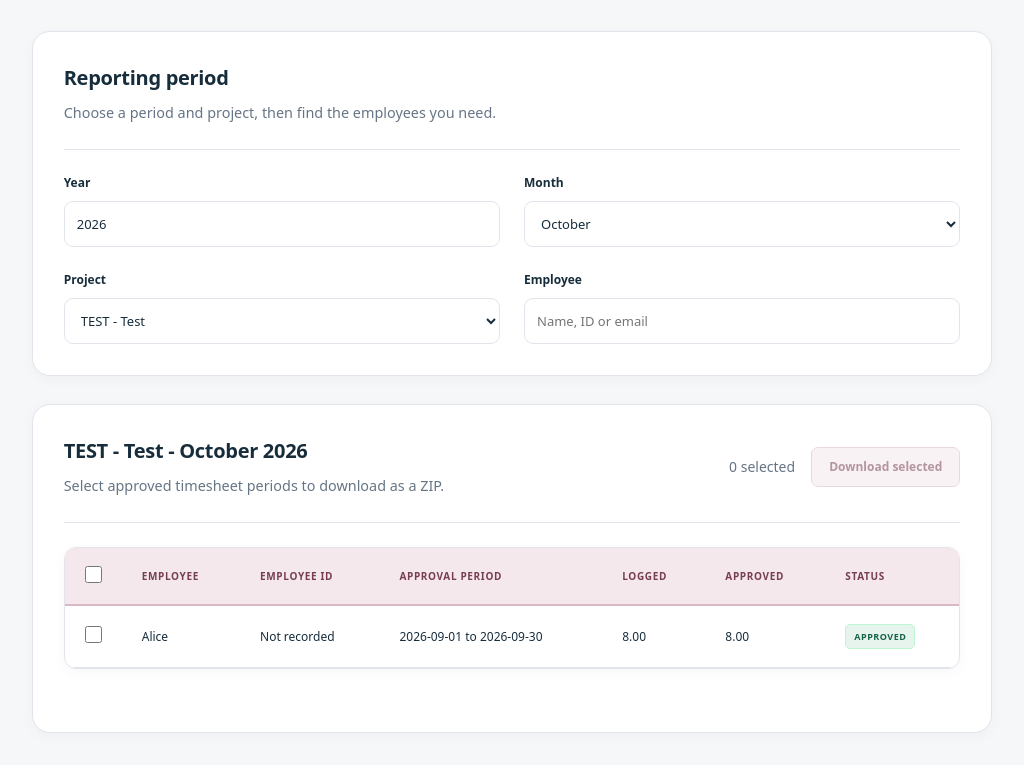
report filters › excludes assignment-only rows and clears members and exports for an empty year
(page scrolled)
Expected: the text "Alice" is shown, 122,605 -> 240,668
Click the checkbox named "Select Alice".
click(93, 635)  # box 85,626 -> 102,643
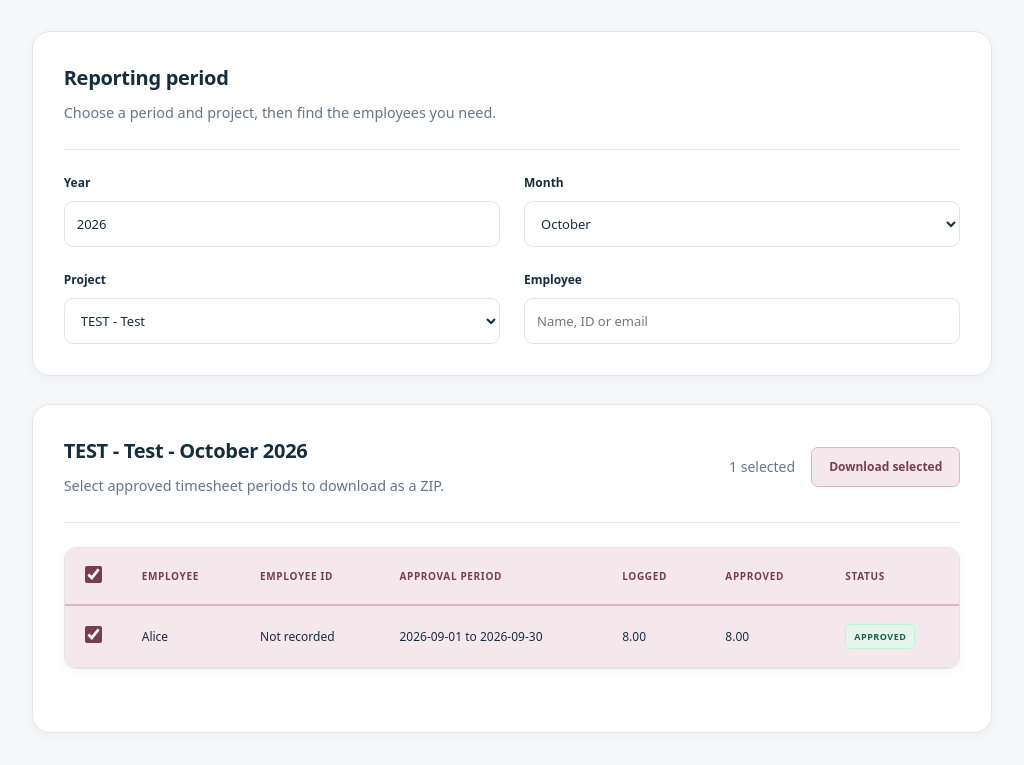
Replace the text in the number field labelled "Year" with "2040" at (282, 224), box 64,201 -> 500,247
(page scrolled)
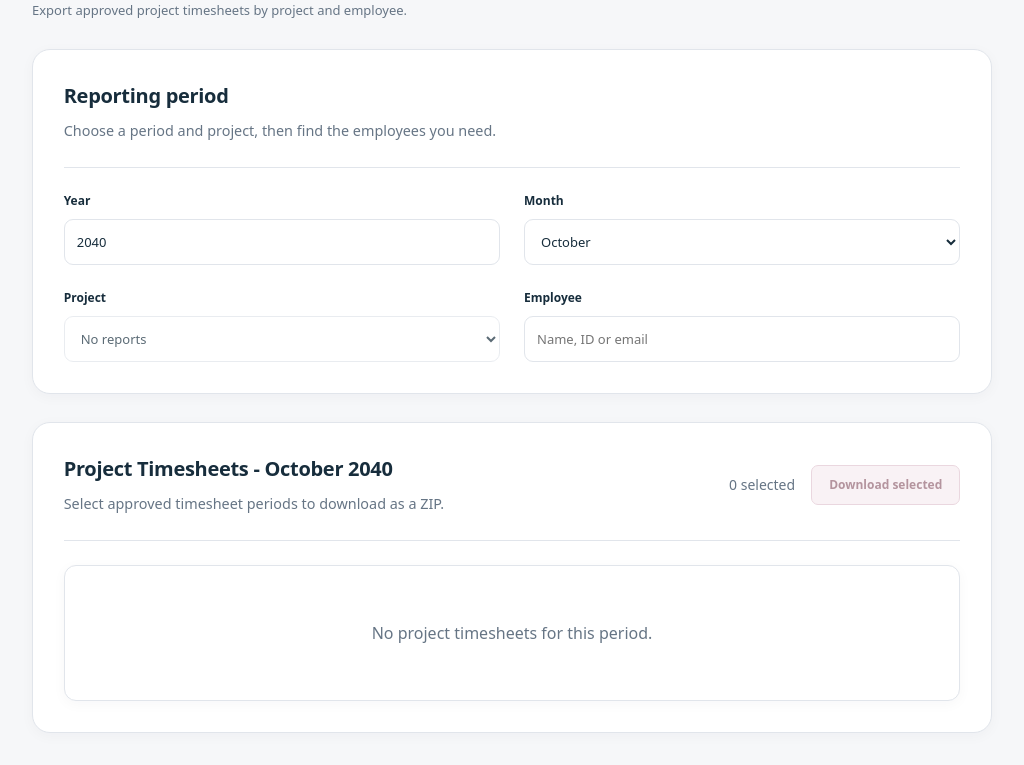
Now the text "No project timesheets for this period." is shown, box 372,622 -> 652,644
Now the text "Alice" is gone
Now the button "Download selected" is disabled, box 811,465 -> 960,505
